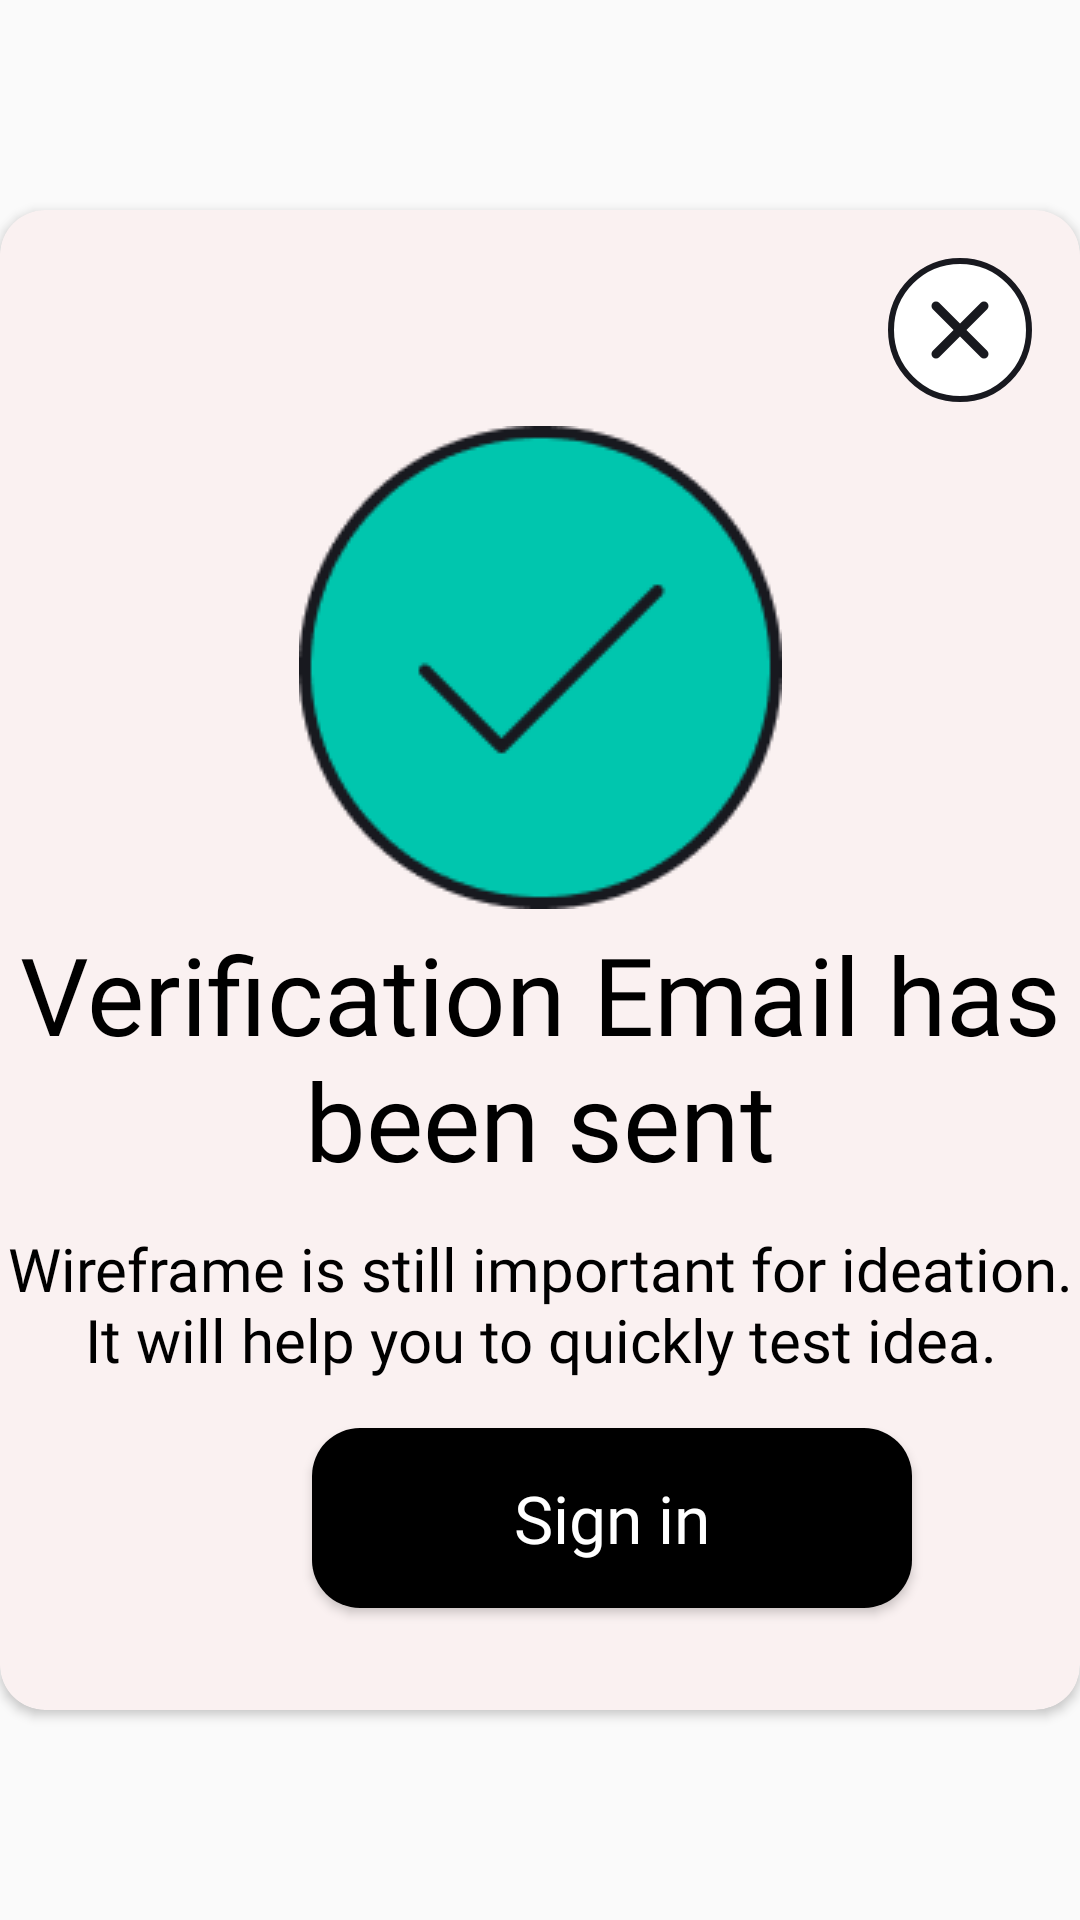

Where icons sit on this 1080 x 1920 app screen, as bbox=[x1, y1, x2, y2]:
cross: bbox=[888, 258, 1032, 402]
